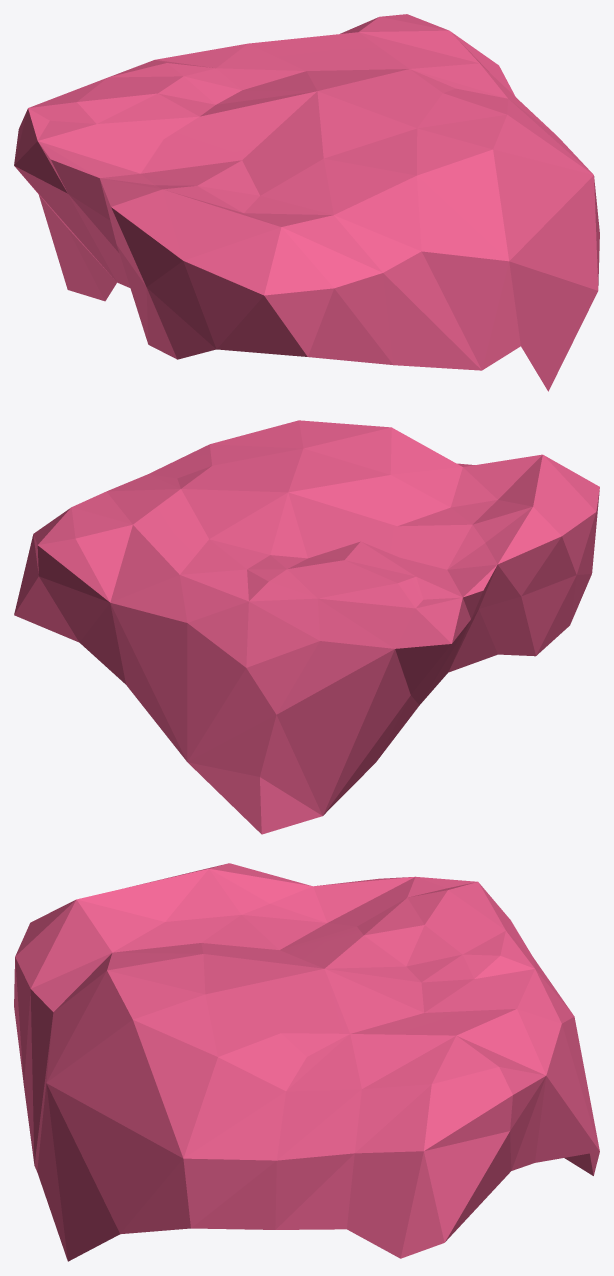
The model's file is ground_007.fbx.
3 renders of one model, top to bottom at view 1: azimuth 30°, elevation 25°; view 2: azimuth 150°, elevation 25°; view 3: azimuth 270°, elevation 25°, orthographic. The views are drawn at different scales.
Parts seen in each view (by area): view 1: ground.007; view 2: ground.007; view 3: ground.007.
Part boxes in pixels (x1,y1,x2,y2): ground.007: (14,14,599,391); ground.007: (14,420,599,834); ground.007: (14,863,599,1261).
Bounding box in the file's own units: 2139 × 1033 × 2119.
Materials: 1 (1 with a texture image).
